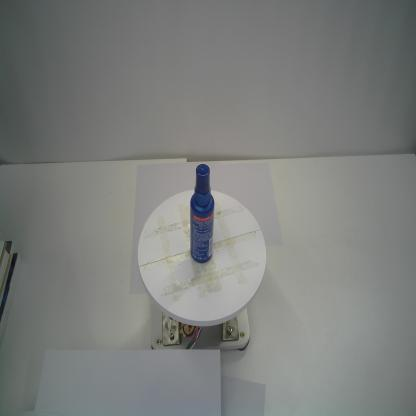Personal Hygiene: (190, 163, 215, 264)
